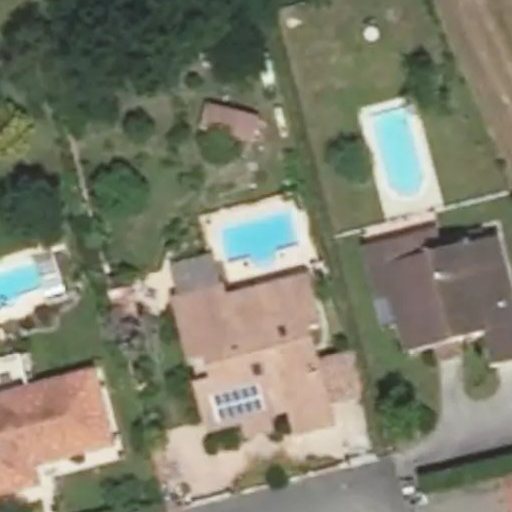pool: (220, 232, 291, 251)
